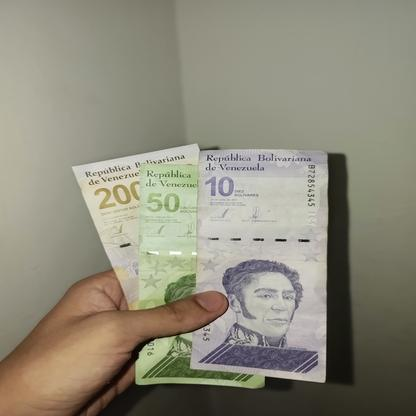fifty-front-vef: (134, 163, 264, 388)
ten-front-vef: (188, 146, 328, 384)
two_hundred-front-vef: (70, 142, 200, 310)
